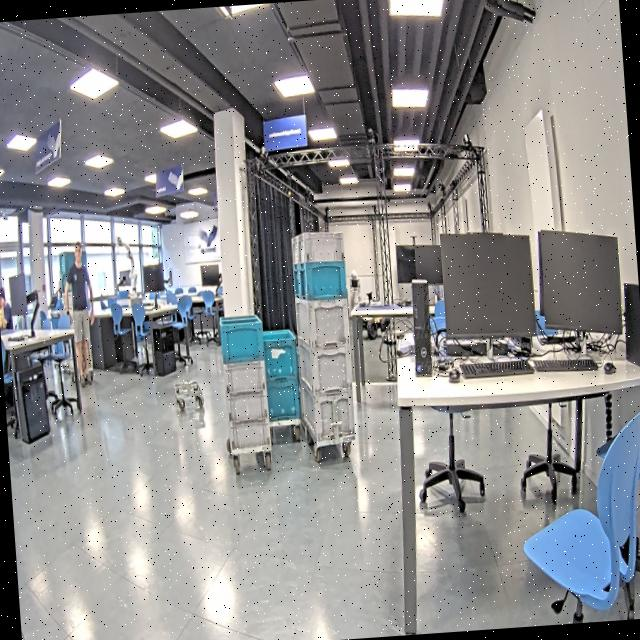Box4G: (294, 294, 349, 350), (297, 340, 352, 392)
Box8G: (296, 377, 357, 443), (295, 228, 344, 266), (221, 358, 266, 394), (226, 388, 270, 424), (228, 417, 270, 452), (290, 235, 298, 262)
BoxB4: (258, 328, 301, 384), (218, 317, 264, 364), (263, 378, 302, 422)
BoxB8: (298, 259, 348, 301), (292, 262, 300, 298)
